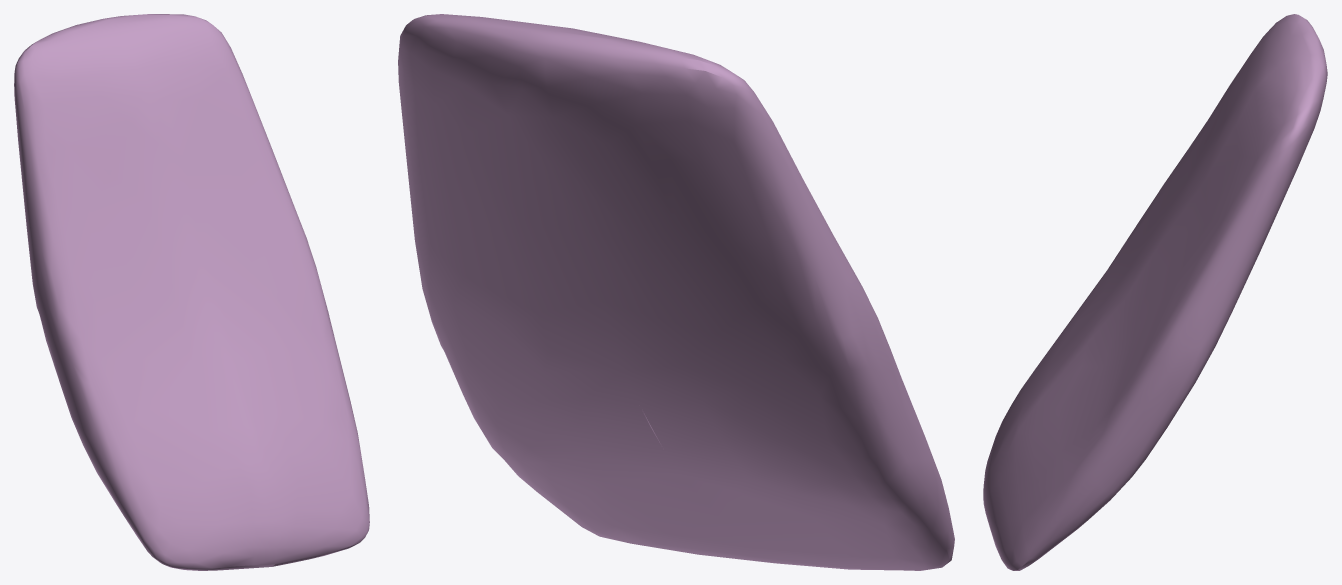
3 views of the same model, side by side, from view 1: azimuth 30°, elevation 25°; view 2: azimuth 150°, elevation 25°; view 3: azimuth 270°, elevation 25° (orthographic). The views are drawn at different scales.
Visible parts, largest first — view 1: 小脑小舌; view 2: 小脑小舌; view 3: 小脑小舌.
Part boxes in pixels (x1,y1,x2,y2): 小脑小舌: (14, 14, 369, 570); 小脑小舌: (398, 14, 954, 570); 小脑小舌: (983, 14, 1327, 570).
Bounding box in the file's own units: 0.015 × 0.0237 × 0.016.
